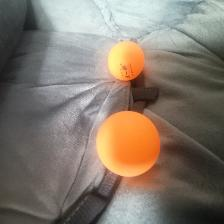YellowBall: (96, 110, 160, 178), (107, 41, 144, 81)
